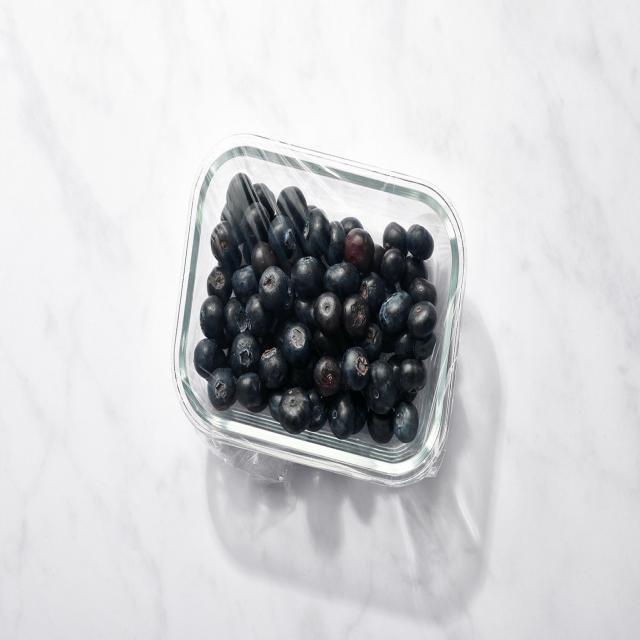blueberry: (172, 134, 468, 488)
